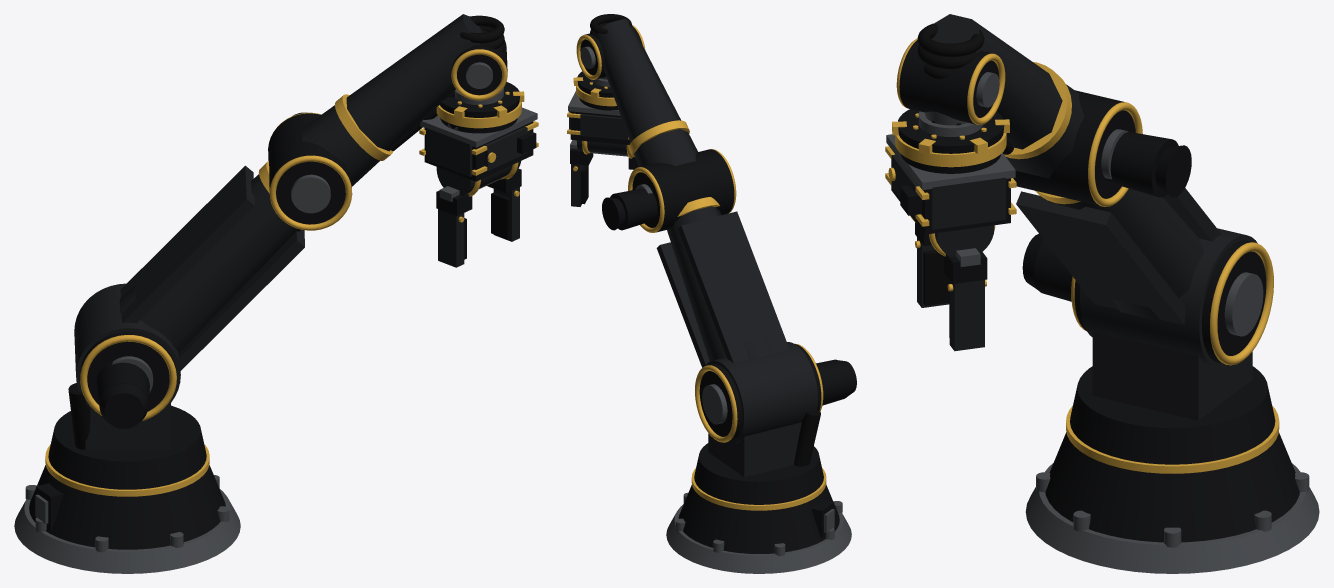
File: robot-arm-25kg.glb
3 renders of one model, left to right at view 1: azimuth 30°, elevation 25°; view 2: azimuth 150°, elevation 25°; view 3: azimuth 270°, elevation 25°, orthographic. The views are drawn at different scales.
Visible parts, largest first — view 1: base_pedestal, j2_upper_arm, j4_forearm, j1_turntable, j2_arm_rib_b, base_mounting_plate, j3_hub, j1_shoulder_yoke, j2_arm_rib_a, j1_shoulder_column, j2_hub, j3_forearm_housing (+20 smaller); view 2: j2_arm_rib_b, base_pedestal, j1_shoulder_yoke, j4_forearm, j1_turntable, j3_hub, base_mounting_plate, j1_shoulder_column, j2_upper_arm, j3_forearm_housing, j2_arm_rib_a, j2_hub (+20 smaller); view 3: base_pedestal, j1_turntable, base_mounting_plate, j2_arm_rib_a, j1_shoulder_column, j2_upper_arm, j4_forearm, j1_shoulder_yoke, j3_hub, j5_hub, j2_hub, ee_carrier_face_b (+27 smaller).
Boxes of the visible parts, <box> form: base_pedestal: <box>29,465,225,549</box>; j2_upper_arm: <box>119,174,300,352</box>; j4_forearm: <box>346,14,481,151</box>; j1_turntable: <box>48,405,206,489</box>; j2_arm_rib_b: <box>120,165,254,322</box>; base_mounting_plate: <box>14,488,240,573</box>; j3_hub: <box>268,113,351,224</box>; j1_shoulder_yoke: <box>74,283,180,420</box>; j2_arm_rib_a: <box>178,229,304,370</box>; j1_shoulder_column: <box>85,403,170,450</box>; j2_hub: <box>80,331,176,411</box>; j3_forearm_housing: <box>301,105,379,186</box>; j2_arm_rib_b: <box>678,211,789,363</box>; base_pedestal: <box>678,484,839,553</box>; j1_shoulder_yoke: <box>705,342,818,444</box>; j4_forearm: <box>594,19,681,142</box>; j1_turntable: <box>694,443,823,504</box>; j3_hub: <box>632,149,734,232</box>; base_mounting_plate: <box>666,504,851,573</box>; j1_shoulder_column: <box>708,422,801,477</box>; j2_upper_arm: <box>667,206,774,361</box>; j3_forearm_housing: <box>634,129,697,166</box>; j2_arm_rib_a: <box>656,242,709,367</box>; j2_hub: <box>699,344,821,441</box>; base_pedestal: <box>1045,432,1299,542</box>; j1_turntable: <box>1070,366,1275,464</box>; base_mounting_plate: <box>1025,463,1319,573</box>; j2_arm_rib_a: <box>1016,191,1185,325</box>; j1_shoulder_column: <box>1092,331,1252,420</box>; j2_upper_arm: <box>1048,188,1204,320</box>; j4_forearm: <box>931,14,1062,149</box>; j1_shoulder_yoke: <box>1080,228,1257,367</box>; j3_hub: <box>1013,90,1135,205</box>; j5_hub: <box>899,40,999,124</box>; j2_hub: <box>1074,240,1266,364</box>; ee_carrier_face_b: <box>931,177,1005,229</box>.
Size of the model in its own units: 1.2 by 1.4 by 0.8421.
